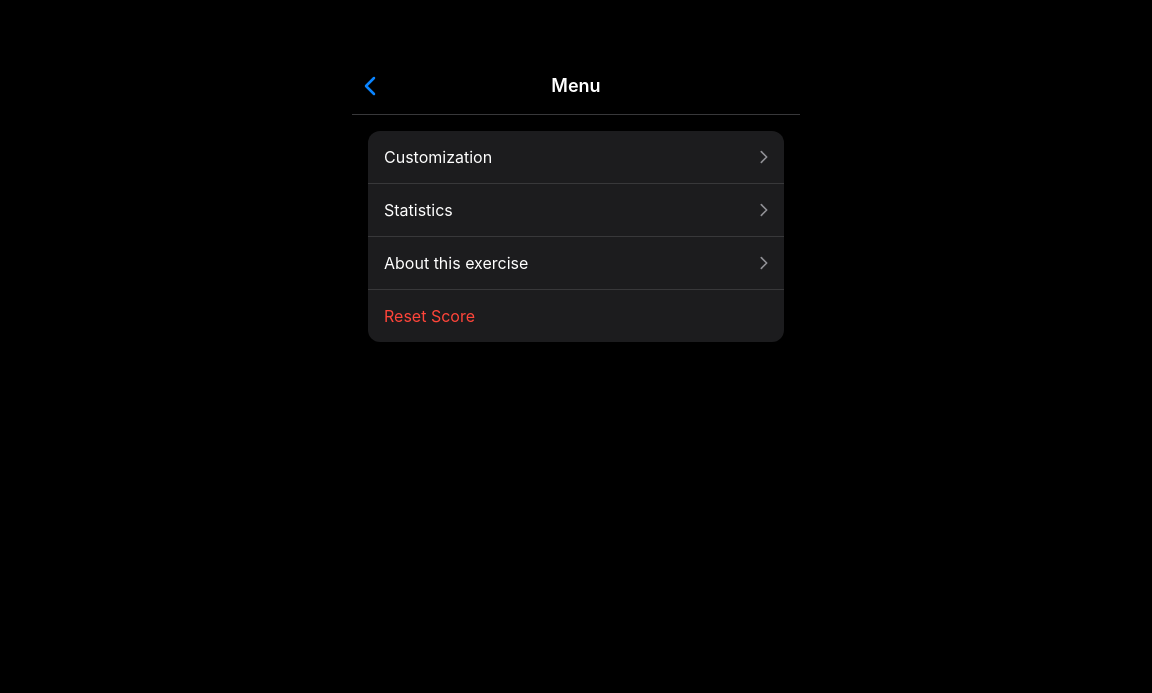
Test: chords a cadence depends on › frees a chord once another cadence can carry the progression
The width and height of the screenshot is (1152, 693).
Click the button "Customization".
click(438, 157)  # box [368,131,784,183]
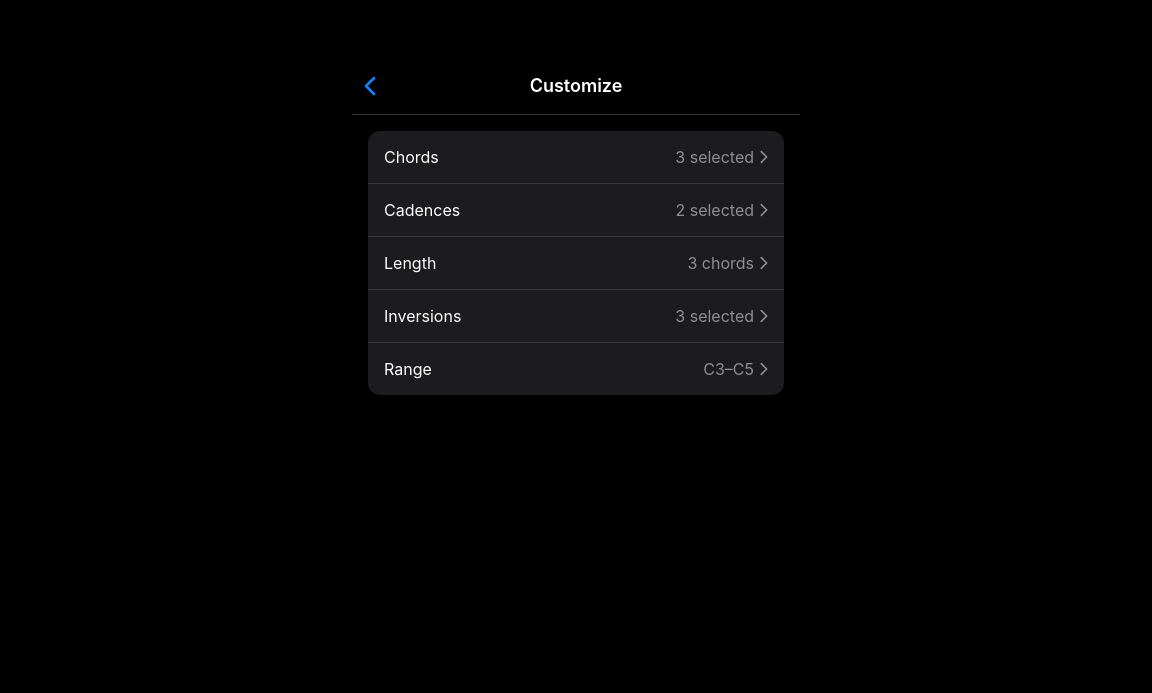
Click the button "Chords 3 selected".
click(411, 157)  # box [368,131,784,183]
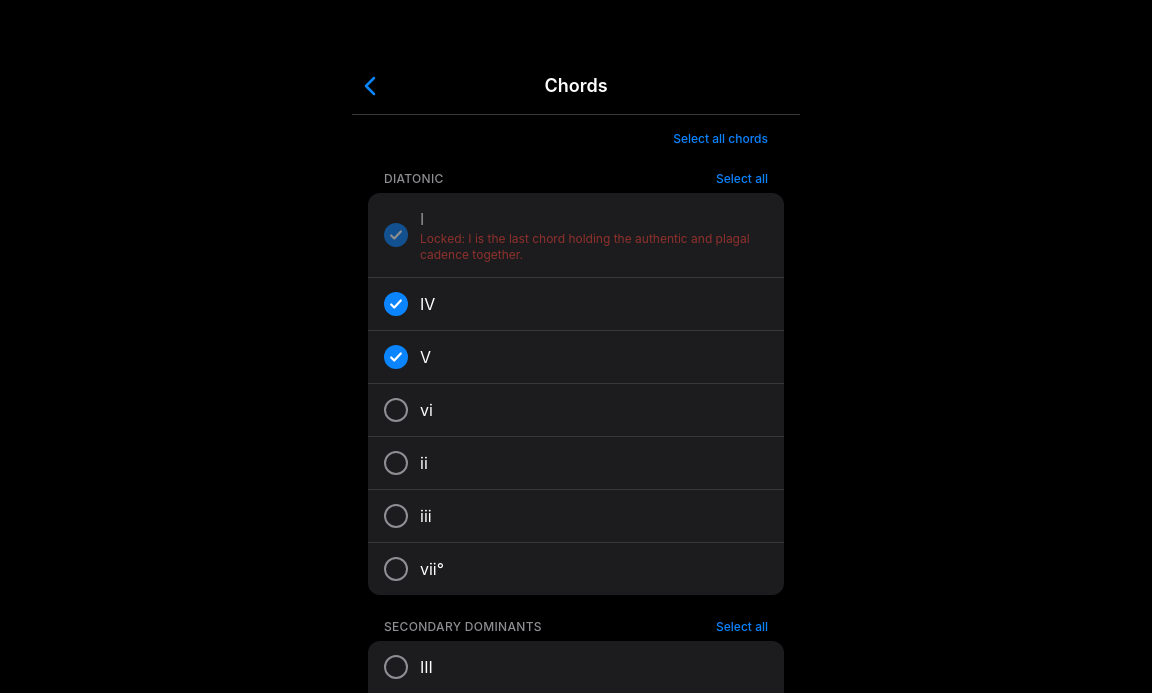
Result: the checkbox labelled "V" is enabled at [368,330,784,383]
Result: the checkbox that starts with "Locked:" is disabled at [368,193,784,277]
